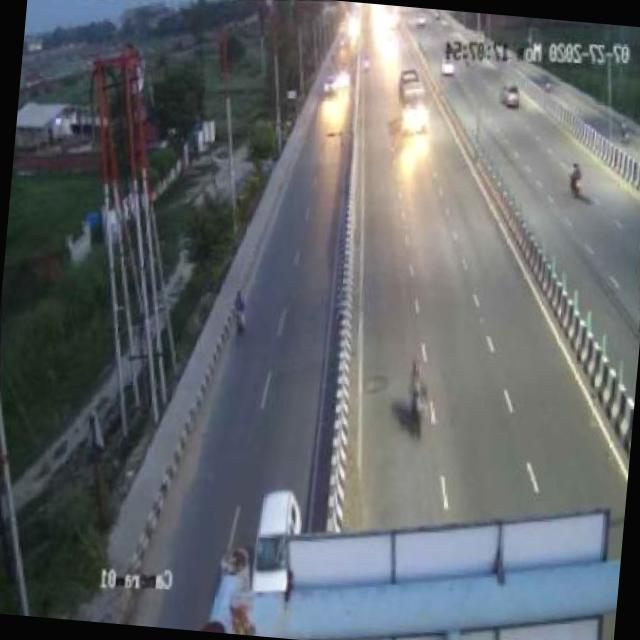car: (228, 482, 318, 598)
